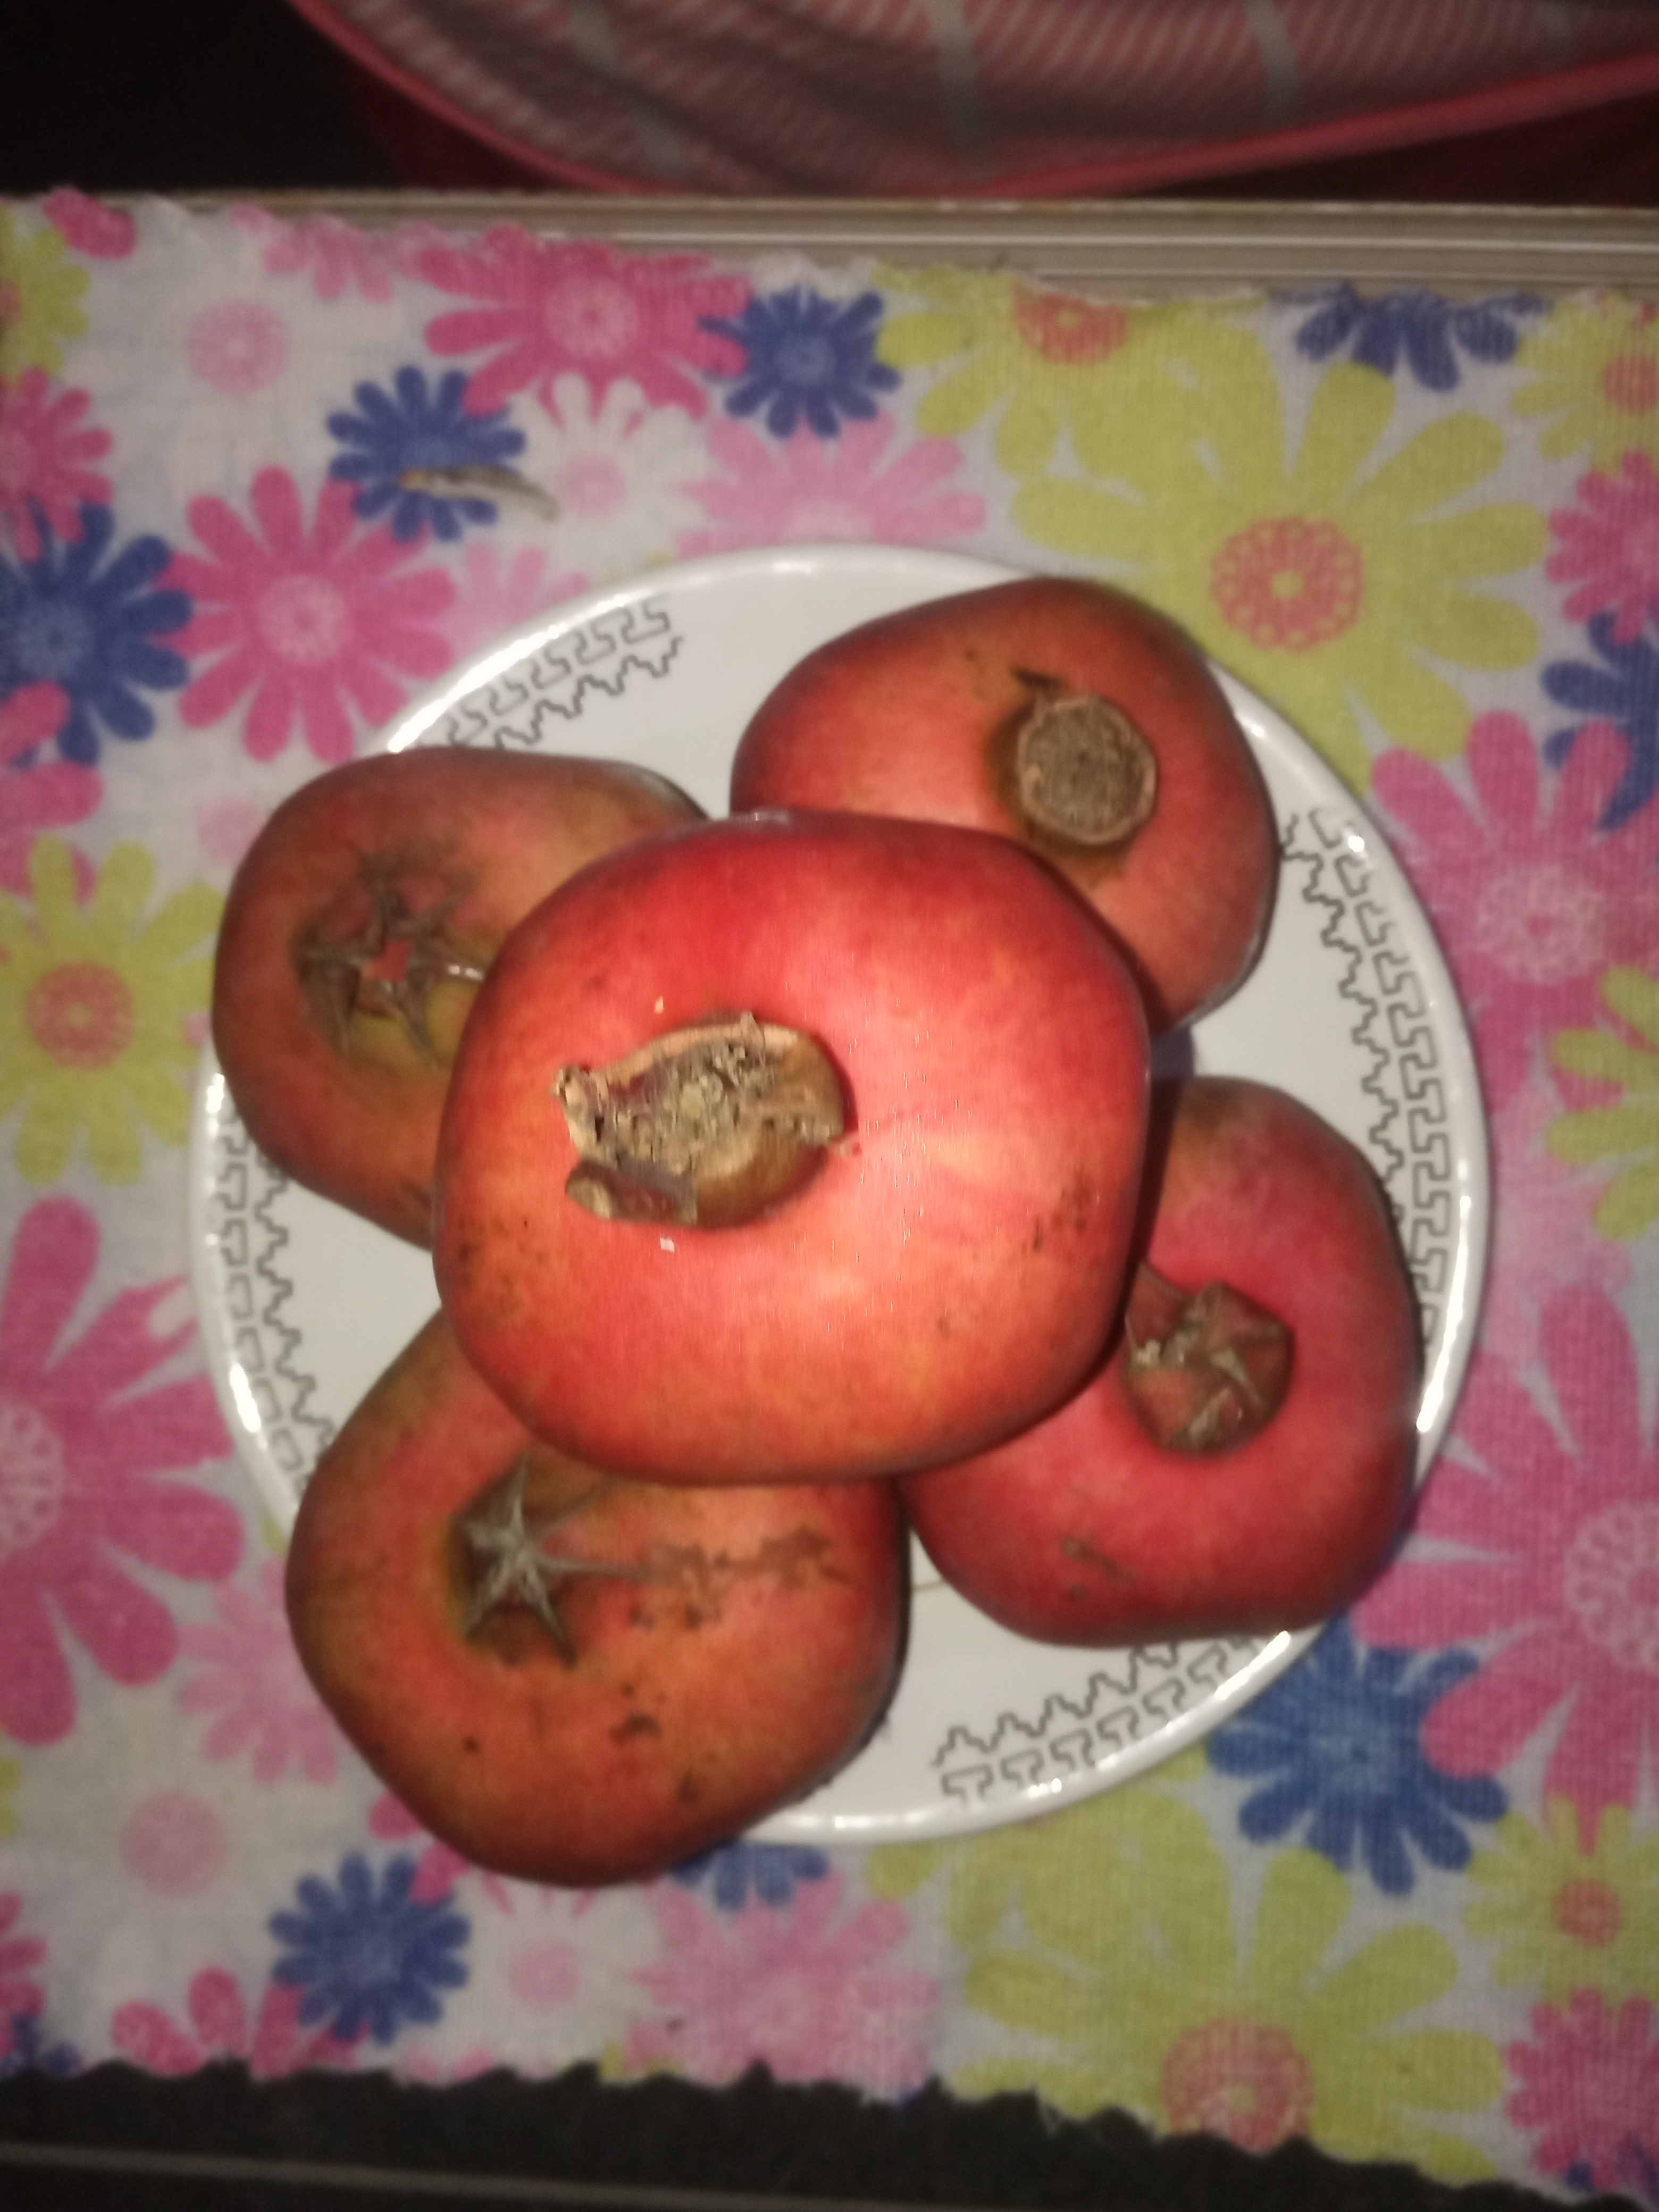food: (204, 566, 1432, 1892)
